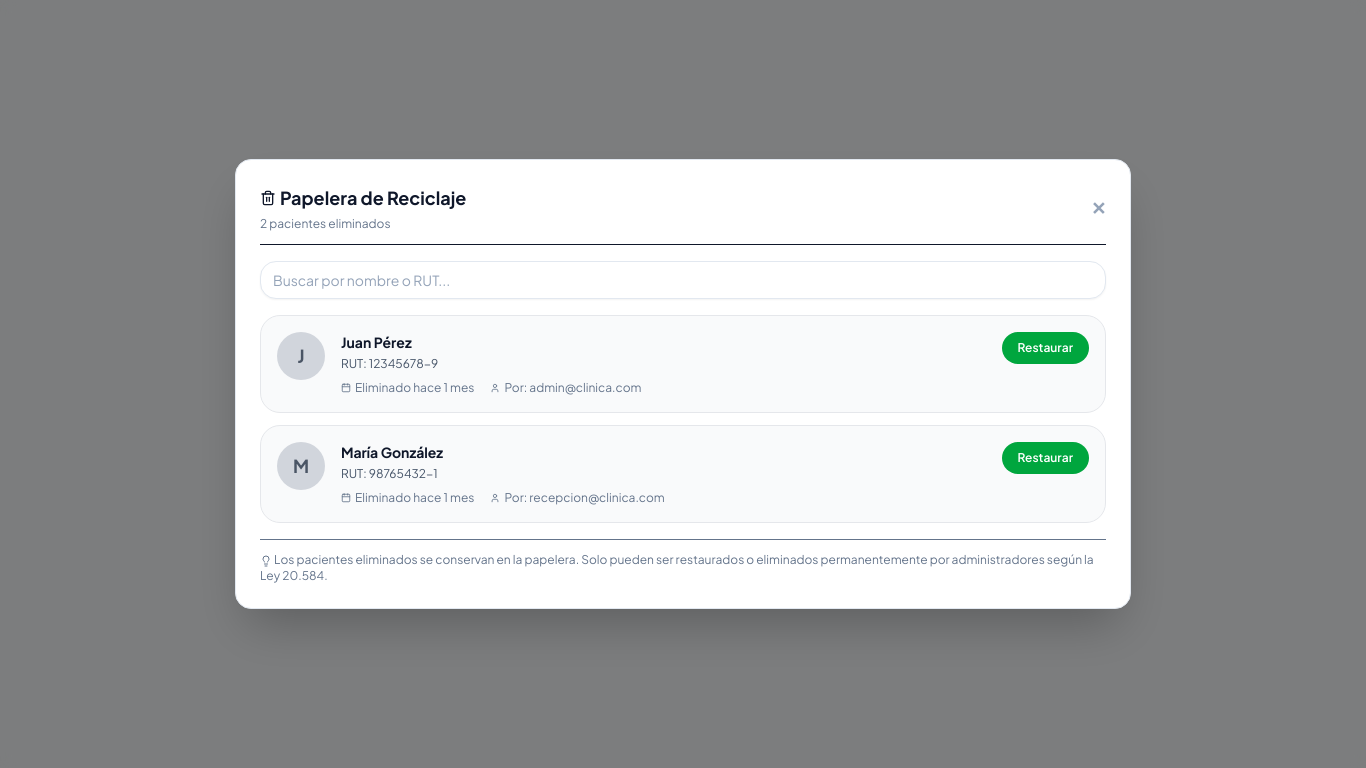
Test: ModalPapelera (F6-L) › muestra mensaje de no resultados en búsqueda
The image size is (1366, 768).
In the field with placeholder "Buscar por nombre o RUT...": (683, 280) [260,261,1106,299], type "NoExiste"
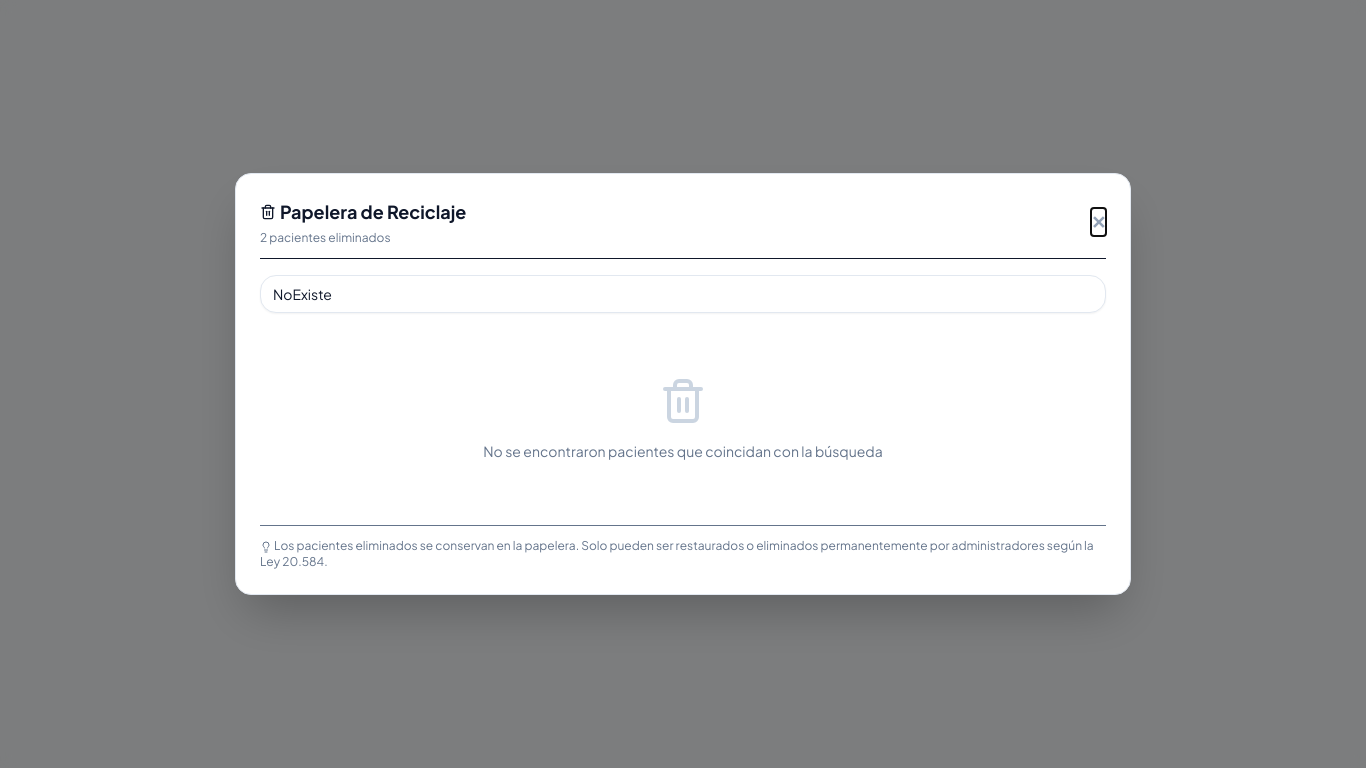
expect the text "No se encontraron pacientes que coincidan con la búsqueda" is shown: met, box [483,442,883,460]
